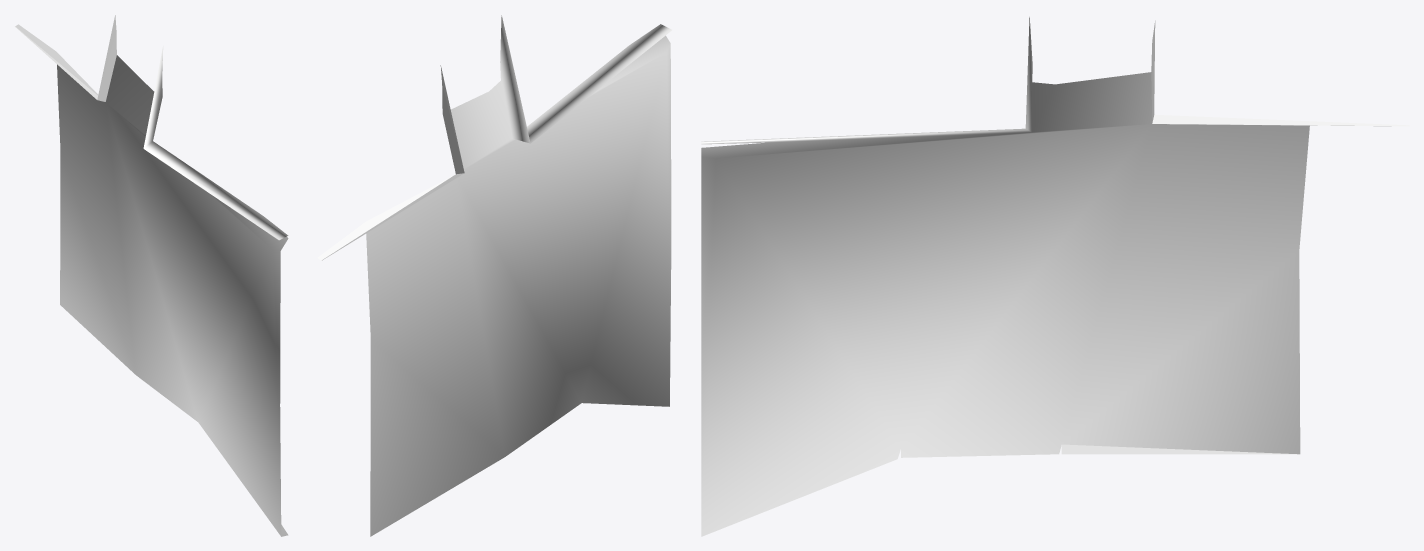
The picture shows the model from 3 angles, left to right: view 1: azimuth 30°, elevation 25°; view 2: azimuth 150°, elevation 25°; view 3: azimuth 270°, elevation 25°; orthographic projection. The views are drawn at different scales.
Bounding box in the file's own units: 0.0609 × 1.09 × 1.33.
1 material, 1 textured.
